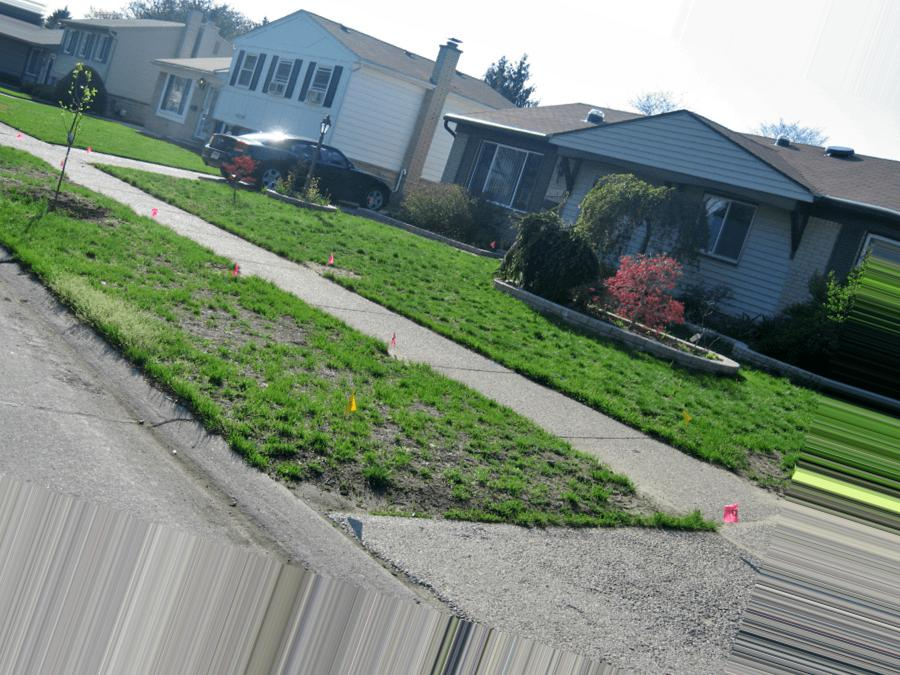patch: (379, 441, 462, 510), (203, 310, 277, 356), (45, 172, 84, 215)
